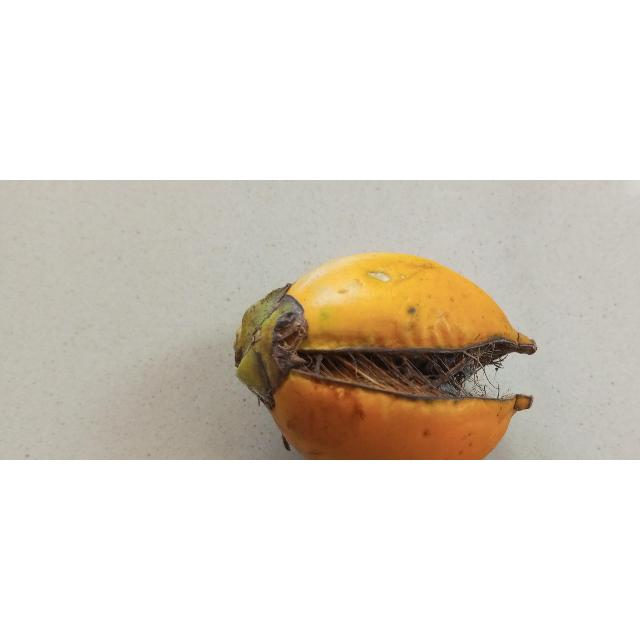damaged: (235, 253, 538, 461)
